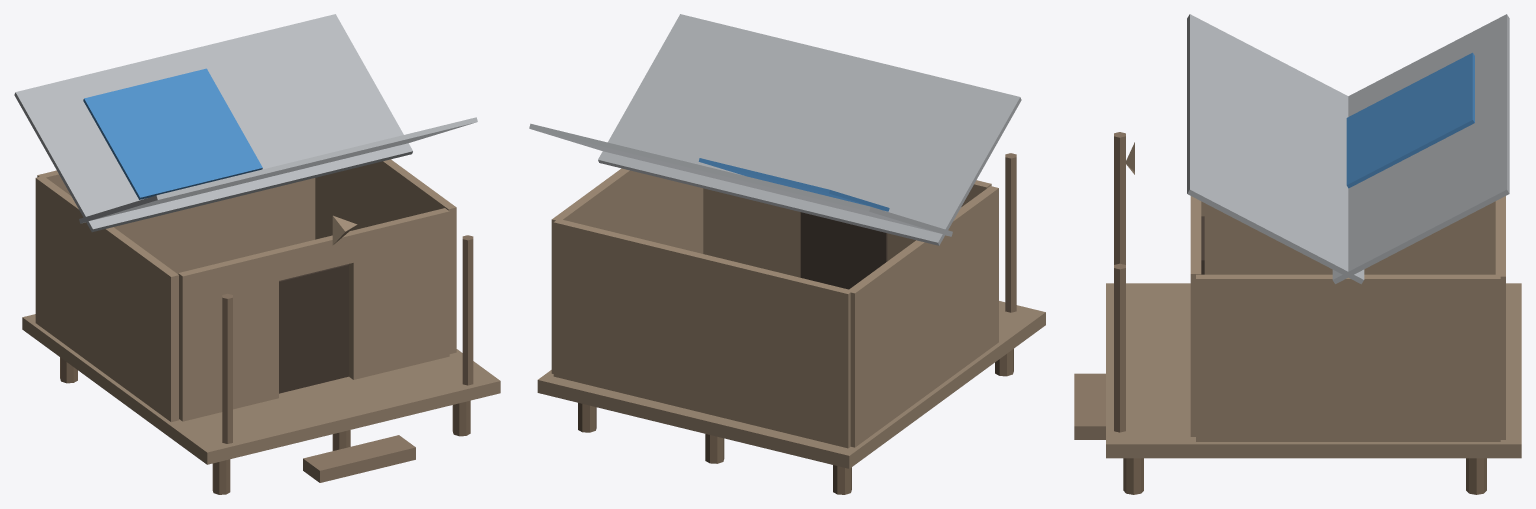
The model's file is survivor_cabin.glb.
3 views of the same model, side by side, from view 1: azimuth 30°, elevation 25°; view 2: azimuth 150°, elevation 25°; view 3: azimuth 270°, elevation 25° (orthographic). The views are drawn at different scales.
Parts seen in each view (by area): view 1: geometry_0; view 2: geometry_0; view 3: geometry_0.
Part boxes in pixels (x1,y1,x2,y2): geometry_0: (14,14,500,494); geometry_0: (529,14,1045,494); geometry_0: (1074,14,1521,494).
Size of the model in its own units: 6 by 5.15 by 6.45.
